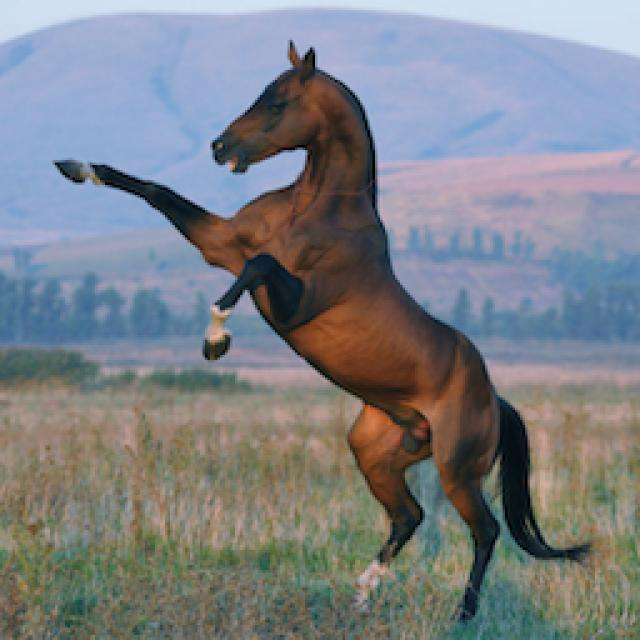Horse: (47, 35, 595, 630)
